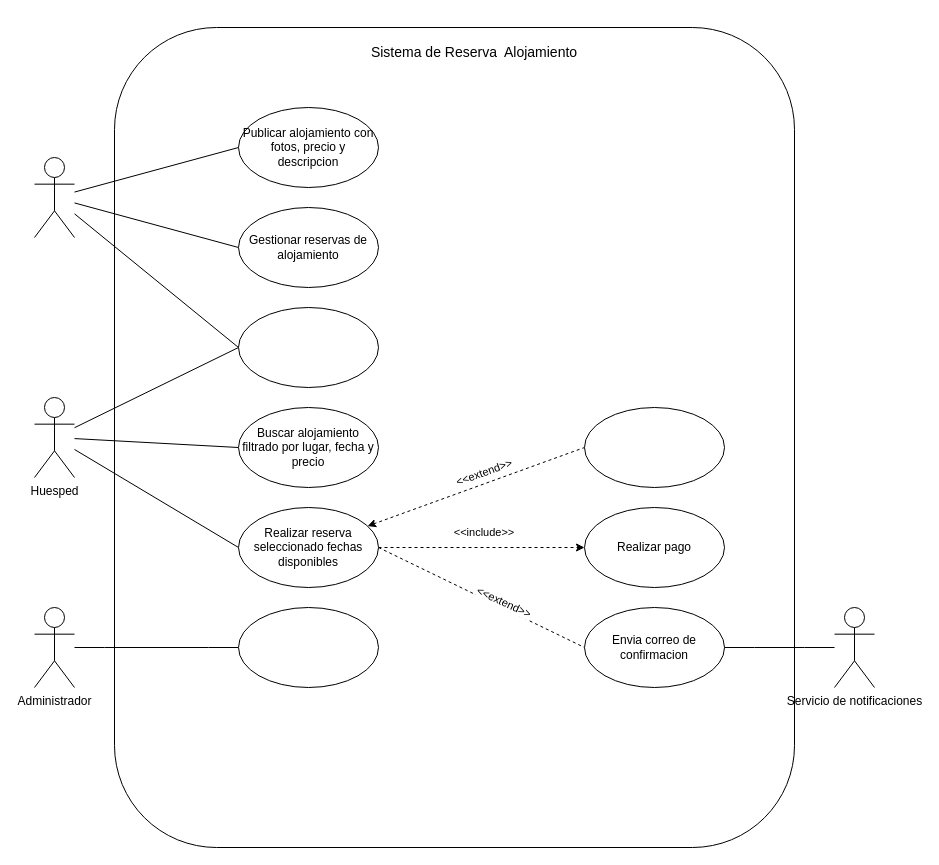
Some shapes in this 939 by 865 pixel diagram are drawn without their labels. Here are the shapes that lost their labels. From the top down, the box of each, then its label:
(34, 156, 74, 238): Propietario
(238, 306, 378, 388): Registrar correo electronico, contraseña y inicia sesion
(584, 406, 724, 488): Dejar reseña
(238, 606, 378, 688): Supervisar usuarios y alojaminetos de la plataforma
